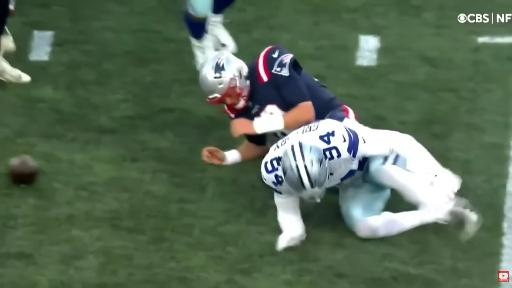Helmet: (200, 51, 249, 109), (282, 142, 329, 201)
Jersey: (225, 46, 342, 120), (261, 119, 367, 194)
Player: (262, 119, 480, 250), (200, 46, 355, 164), (184, 0, 237, 70), (0, 0, 31, 83)
